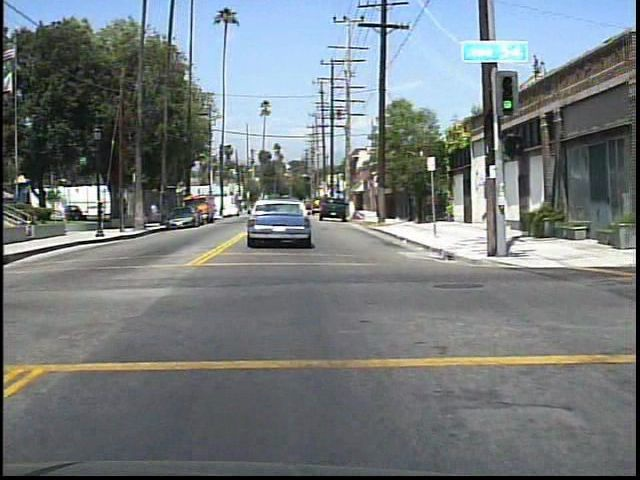person: (150, 203, 164, 228), (119, 194, 131, 217), (97, 197, 106, 220)
